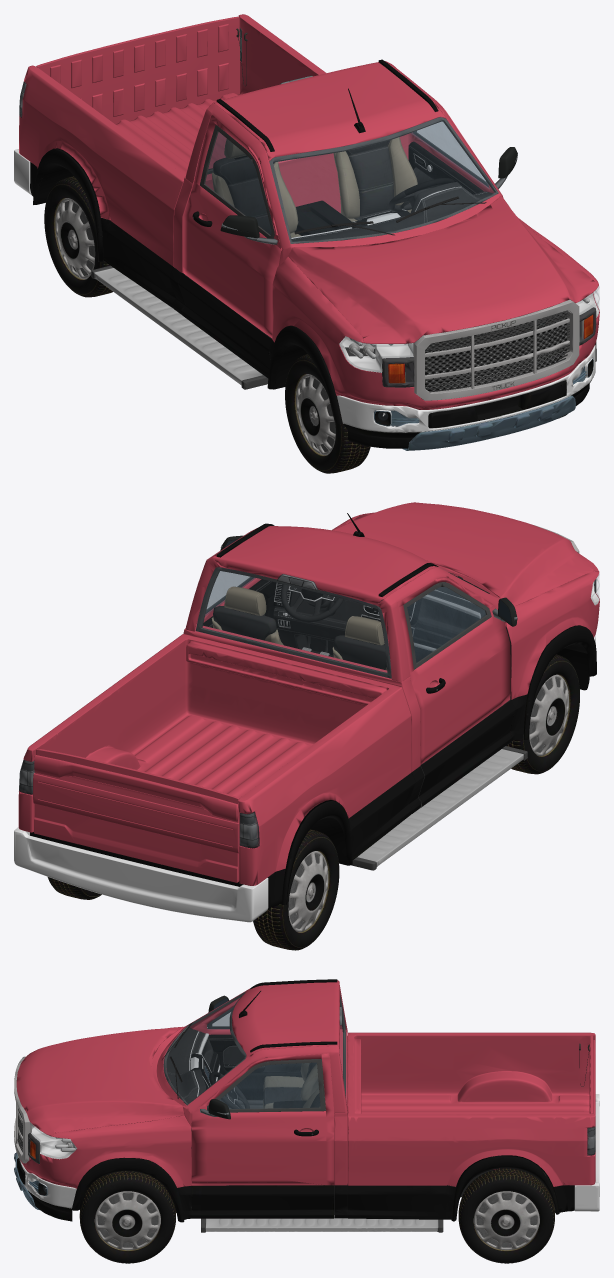
Rendered from truck.glb.
3 views of the same model, one above another, from view 1: azimuth 30°, elevation 25°; view 2: azimuth 150°, elevation 25°; view 3: azimuth 270°, elevation 25° (orthographic). The views are drawn at different scales.
Visible parts, largest first — view 1: Body_01, Door_R_03, Tailgate_04, parts (×2), Door_L_02; view 2: Body_01, Tailgate_04, Door_R_03, parts (×2), Door_L_02; view 3: Body_01, Door_L_02, parts (×2), Door_R_03, Tailgate_04.
Boxes of the visible parts, x1,y1,x2,y2 form: Body_01: [14, 14, 599, 450]; Door_R_03: [183, 114, 281, 338]; Tailgate_04: [36, 16, 246, 124]; parts (×2): [44, 176, 370, 473]; Door_L_02: [407, 100, 517, 194]; Body_01: [14, 502, 599, 922]; Tailgate_04: [33, 748, 239, 882]; Door_R_03: [397, 577, 517, 764]; parts (×2): [253, 654, 579, 950]; Door_L_02: [196, 535, 276, 629]; Body_01: [14, 979, 599, 1232]; Door_L_02: [191, 1053, 334, 1185]; parts (×2): [79, 1168, 554, 1263]; Door_R_03: [192, 995, 301, 1099]; Tailgate_04: [580, 1035, 595, 1126].
Size of the model in its own units: 2.46 by 2.31 by 5.36.
Materials: 24 (19 with a texture image).
